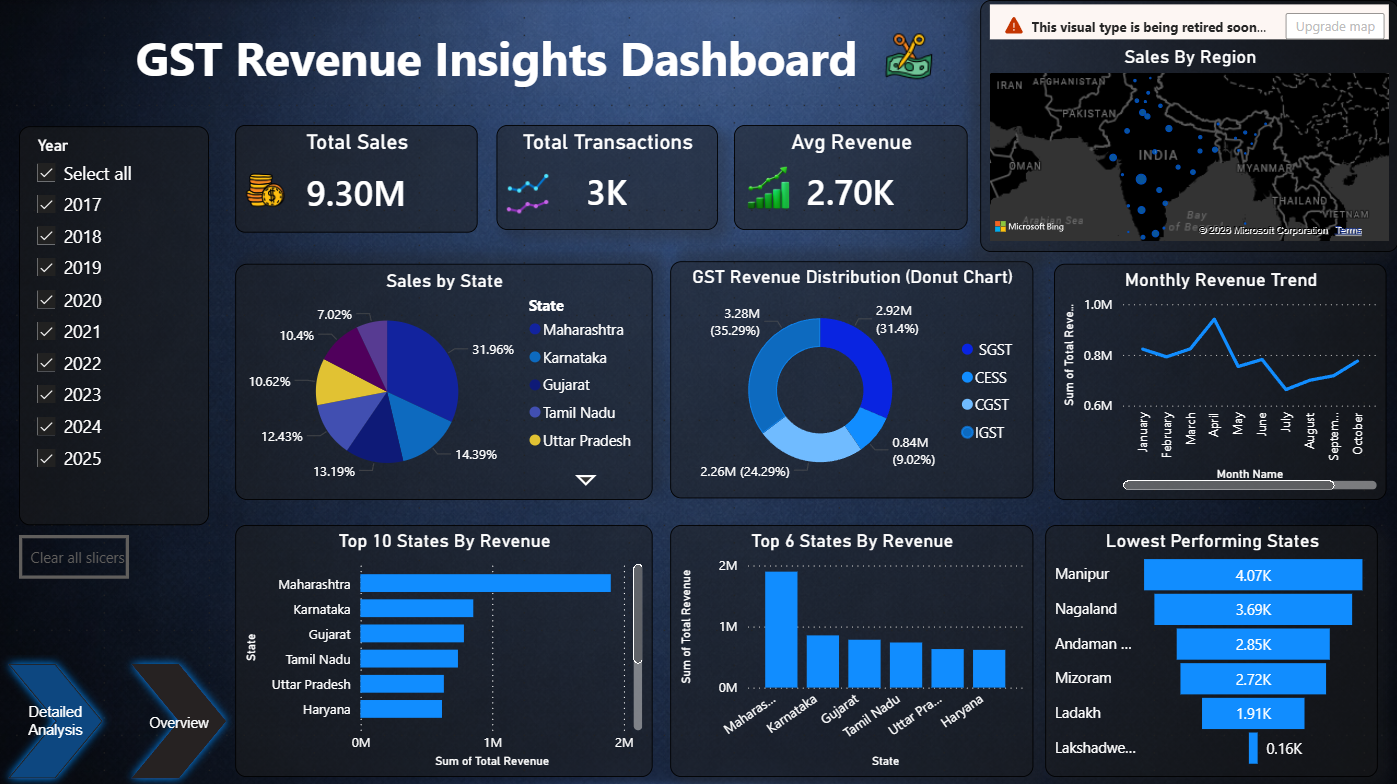

This screenshot's page, from the dashboard's own definition file:
{"tool":"powerbi","page":{"name":"Duplicate of Page 1","canvas":[1280,720],"ordinal":1},"visuals":[{"type":"cardVisual","title":"Total Sales","fields":{"Data":["tarungupta0927_17753816837849605.Total Sales"]},"box":[215.7,113.8,221.6,98.4],"z":0},{"type":"cardVisual","title":"Total Transactions","fields":{"Data":["tarungupta0927_17753816837849605.Total Transactions"]},"box":[454.9,114.3,202.3,96],"z":1000},{"type":"cardVisual","title":"Avg Revenue","fields":{"Data":["tarungupta0927_17753816837849605.Avg Revenue"]},"box":[672,114.3,213.7,96],"z":2000},{"type":"slicer","fields":{"Values":["tarungupta0927_17753816837849605.Year"]},"box":[18.3,115.4,173.7,364.6],"z":3000},{"type":"pieChart","title":"Sales by State","fields":{"Category":["tarungupta0927_17753816837849605.State"],"Y":["Sum(tarungupta0927_17753816837849605.Total Revenue)"]},"box":[215.7,240.6,381.5,215.7],"z":4000},{"type":"donutChart","title":"GST Revenue Distribution (Donut Chart)","fields":{"Y":["Sum(tarungupta0927_17753816837849605.SGST Revenue)","Sum(tarungupta0927_17753816837849605.Cess Revenue)","Sum(tarungupta0927_17753816837849605.CGST Revenue)","Sum(tarungupta0927_17753816837849605.IGST Revenue)"]},"box":[613.4,239.4,331.6,216.9],"z":5000},{"type":"map","title":"Sales By Region","fields":{"Category":["tarungupta0927_17753816837849605.State"],"Size":["Sum(tarungupta0927_17753816837849605.Total Revenue)"]},"box":[897.7,0,382.8,230.6],"z":6000},{"type":"clusteredBarChart","title":"Top 10 States By Revenue","fields":{"Category":["tarungupta0927_17753816837849605.State"],"Y":["Sum(tarungupta0927_17753816837849605.Total Revenue)"]},"box":[215.7,480,381.5,230.6],"z":7000},{"type":"clusteredColumnChart","title":"Top 6 States By Revenue","fields":{"Category":["tarungupta0927_17753816837849605.State"],"Y":["Sum(tarungupta0927_17753816837849605.Total Revenue)"]},"box":[613.4,480,331.6,230.6],"z":8000},{"type":"funnel","title":"Lowest Performing States","fields":{"Category":["tarungupta0927_17753816837849605.State"],"Y":["Sum(tarungupta0927_17753816837849605.Total Revenue)"]},"box":[956.3,480,304.2,230.6],"z":9000},{"type":"textbox","box":[51.5,18.1,807,66.8],"z":10000},{"type":"image","box":[224,146.3,38.9,53.7],"z":11000},{"type":"image","box":[681.1,146.3,44.6,51.4],"z":12000},{"type":"image","box":[454.9,154.3,57.1,45.7],"z":13000},{"type":"image","box":[788.6,26.3,86.9,50.3],"z":14000},{"type":"lineChart","title":"Monthly Revenue Trend","fields":{"Category":["tarungupta0927_17753816837849605.Month Name"],"Y":["Sum(tarungupta0927_17753816837849605.Total Revenue)"]},"box":[965,240.6,304.2,215.7],"z":14001},{"type":"bookmarkNavigator","box":[0,598.9,556.6,121.1],"z":14002},{"type":"actionButton","box":[18.3,489.1,100.6,40],"z":14003}]}

Visuals, with their boxes in screenshot pixels (x1, y1, x2, y2), scaled from the page's 1280x720 canvas onto the 1397x784 screenshot:
"Total Sales" cardVisual: <region>235, 124, 477, 231</region>
"Total Transactions" cardVisual: <region>496, 124, 717, 229</region>
"Avg Revenue" cardVisual: <region>733, 124, 967, 229</region>
slicer - tarungupta0927_17753816837849605.Year: <region>20, 126, 210, 523</region>
"Sales by State" pieChart: <region>235, 262, 652, 497</region>
"GST Revenue Distribution (Donut Chart)" donutChart: <region>669, 261, 1031, 497</region>
"Sales By Region" map: <region>980, 0, 1396, 251</region>
"Top 10 States By Revenue" clusteredBarChart: <region>235, 523, 652, 774</region>
"Top 6 States By Revenue" clusteredColumnChart: <region>669, 523, 1031, 774</region>
"Lowest Performing States" funnel: <region>1044, 523, 1376, 774</region>
textbox: <region>56, 20, 937, 92</region>
image: <region>244, 159, 287, 218</region>
image: <region>743, 159, 792, 215</region>
image: <region>496, 168, 559, 218</region>
image: <region>861, 29, 956, 83</region>
"Monthly Revenue Trend" lineChart: <region>1053, 262, 1385, 497</region>
bookmarkNavigator: <region>0, 652, 607, 783</region>
actionButton: <region>20, 533, 130, 576</region>
